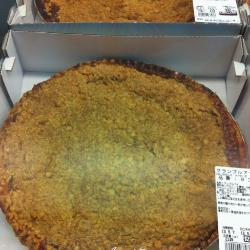apple_pie: (4, 58, 249, 250)
